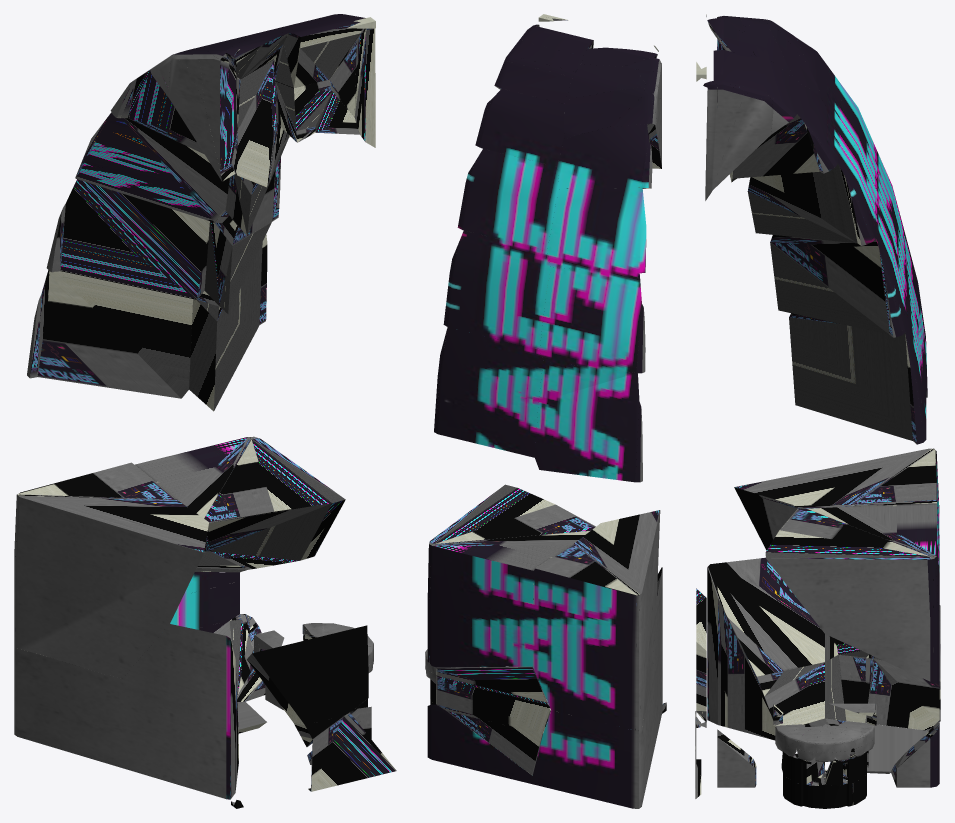
Rendered from shellyGebouw8.0 _Broken.fbx.
3 views of the same model, side by side, from view 1: azimuth 30°, elevation 25°; view 2: azimuth 150°, elevation 25°; view 3: azimuth 270°, elevation 25° (orthographic). The views are drawn at different scales.
Parts seen in each view (by area): view 1: Cube.059_cell.163, Cube.059_cell.171, Cube.059_cell.172, Cube.059_cell.077, Cube.059_cell.165, Cube.059_cell.094, Cube.059_cell.047, Cube.059_cell.006, Cube.059_cell.170, Cube.059_cell.139, Cube.059_cell.038, Cube.059_cell.003 (+17 smaller); view 2: Cube.059_cell.089, Cube.059_cell.139, Cube.059_cell.172, Cube.059_cell.170, Cube.059_cell.003, Cube.059_cell.077, Cube.059_cell.047, Cube.059_cell.057, Cube.059_cell.175, Cube.059_cell.163, Cube.059_cell.080, Cube.059_cell.086 (+19 smaller); view 3: Cube.059_cell.171, Cube.059_cell.165, Cube.059_cell.170, Cube.059_cell.003, Cube.059_cell.175, Cube.059_cell.163, Cube.059_cell.086, Cube.059_cell.139, Cube.059_cell.057, Cube.059_cell.089, Cube.059_cell.119, Cube.059_cell.094 (+23 smaller).
Part boxes in pixels (<box>): Cube.059_cell.163: <box>15,494,208,678</box>; Cube.059_cell.171: <box>122,624,238,799</box>; Cube.059_cell.172: <box>37,270,192,398</box>; Cube.059_cell.077: <box>60,179,209,299</box>; Cube.059_cell.165: <box>204,437,345,569</box>; Cube.059_cell.094: <box>15,647,121,767</box>; Cube.059_cell.047: <box>75,112,229,222</box>; Cube.059_cell.006: <box>247,625,368,724</box>; Cube.059_cell.170: <box>189,242,262,411</box>; Cube.059_cell.139: <box>135,437,250,572</box>; Cube.059_cell.038: <box>190,31,276,187</box>; Cube.059_cell.003: <box>204,170,275,313</box>; Cube.059_cell.089: <box>532,544,636,730</box>; Cube.059_cell.139: <box>429,531,589,667</box>; Cube.059_cell.172: <box>535,361,639,482</box>; Cube.059_cell.170: <box>435,327,543,457</box>; Cube.059_cell.003: <box>444,230,550,349</box>; Cube.059_cell.077: <box>539,267,641,372</box>; Cube.059_cell.047: <box>547,188,646,273</box>; Cube.059_cell.057: <box>532,710,635,808</box>; Cube.059_cell.175: <box>458,149,559,250</box>; Cube.059_cell.163: <box>574,510,660,729</box>; Cube.059_cell.080: <box>557,124,648,188</box>; Cube.059_cell.086: <box>475,89,564,166</box>; Cube.059_cell.171: <box>707,557,846,740</box>; Cube.059_cell.165: <box>765,508,933,682</box>; Cube.059_cell.170: <box>789,285,926,441</box>; Cube.059_cell.003: <box>770,195,905,334</box>; Cube.059_cell.175: <box>747,125,875,243</box>; Cube.059_cell.163: <box>734,448,933,550</box>; Cube.059_cell.086: <box>732,81,837,178</box>; Cube.059_cell.139: <box>807,503,939,683</box>; Cube.059_cell.057: <box>865,656,939,730</box>; Cube.059_cell.089: <box>852,450,939,559</box>; Cube.059_cell.119: <box>713,97,773,189</box>; Cube.059_cell.094: <box>835,639,874,722</box>.
Size of the model in its own units: 2045 by 5017 by 1559.
